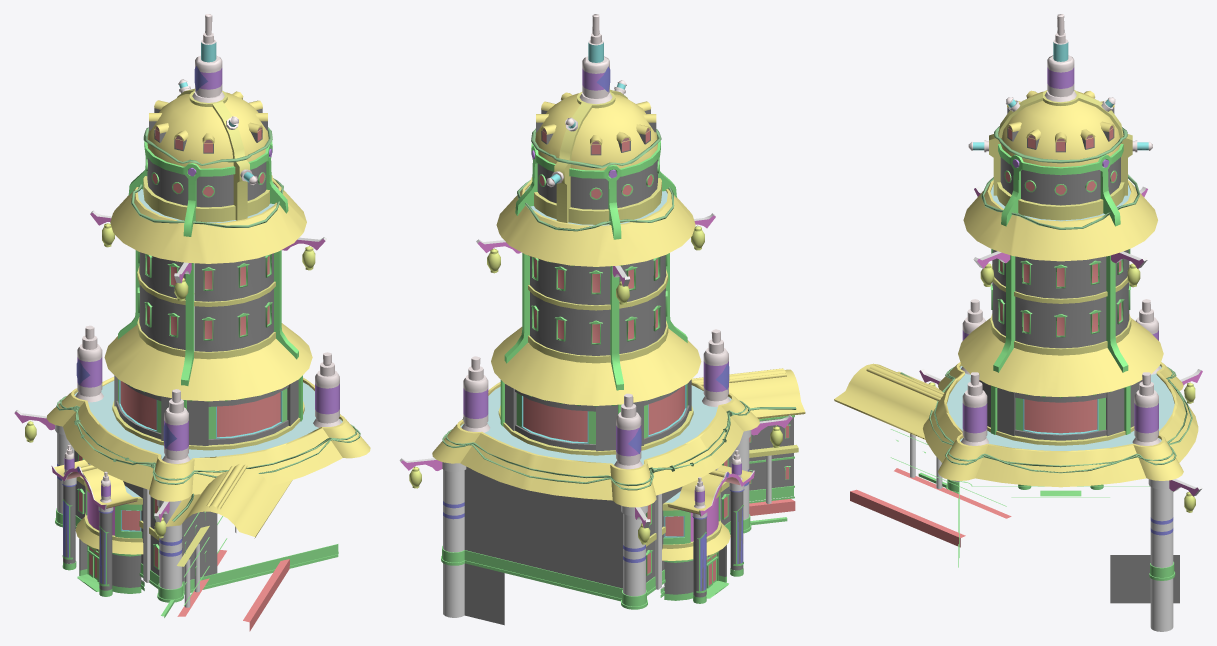
The model's file is SM_ENV_LKNVLD_VRArena_Main_Lod2.gltf.
The picture shows the model from 3 angles, left to right: view 1: azimuth 30°, elevation 25°; view 2: azimuth 150°, elevation 25°; view 3: azimuth 270°, elevation 25°; orthographic projection. The views are drawn at different scales.
Visible parts, largest first — view 1: SM_ENV_LKNVLD_VRArena_Main_Lod2; view 2: SM_ENV_LKNVLD_VRArena_Main_Lod2; view 3: SM_ENV_LKNVLD_VRArena_Main_Lod2.
Part boxes in pixels (x1,y1,x2,y2): SM_ENV_LKNVLD_VRArena_Main_Lod2: (14,14,370,631); SM_ENV_LKNVLD_VRArena_Main_Lod2: (399,14,805,625); SM_ENV_LKNVLD_VRArena_Main_Lod2: (834,14,1202,631).
Size of the model in its own units: 30.53 by 66 by 38.75.
